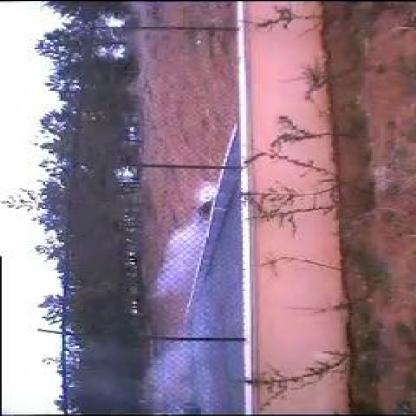-: (135, 210, 241, 380)
